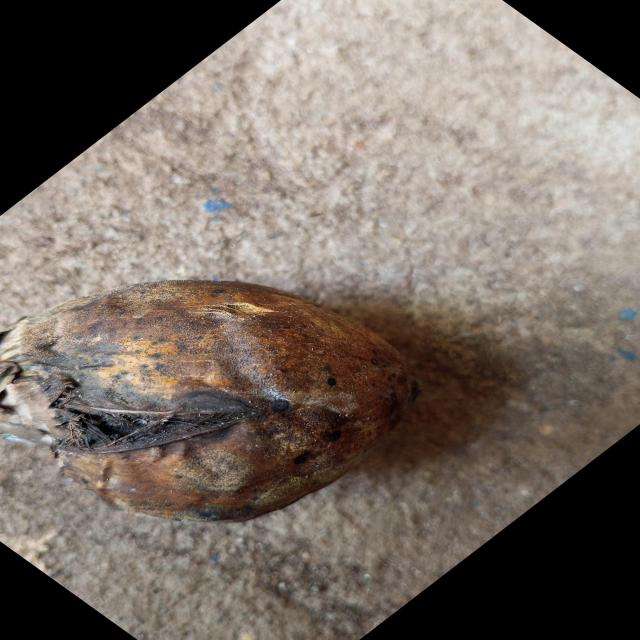damaged: (0, 281, 414, 521)
